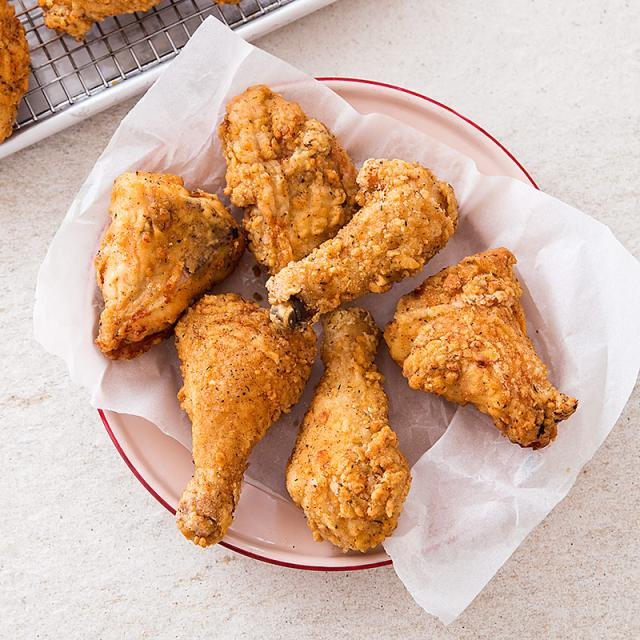Frango: (94, 84, 579, 553)
